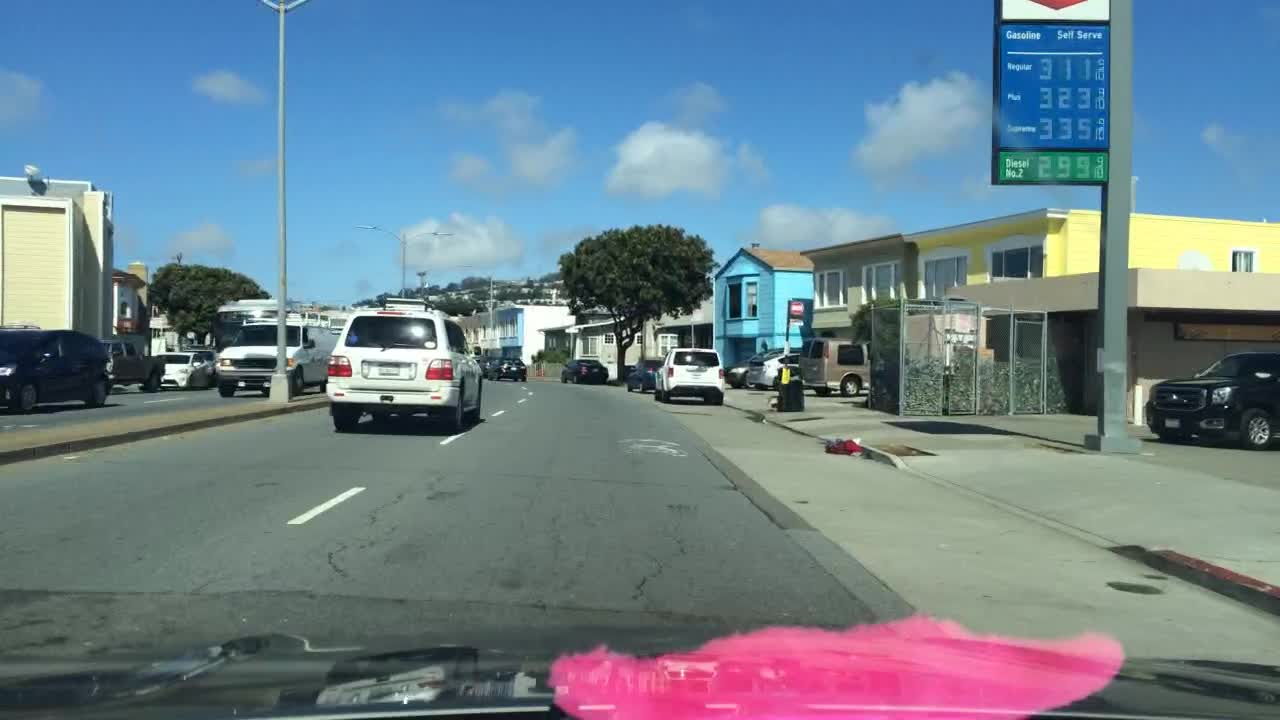bus: (215, 298, 320, 372)
car: (325, 307, 481, 433), (1144, 352, 1278, 448), (0, 327, 109, 410), (653, 347, 723, 408), (800, 338, 869, 395), (724, 348, 796, 389), (157, 351, 207, 388), (751, 354, 798, 389), (558, 357, 609, 384), (623, 358, 663, 391), (490, 357, 524, 379), (480, 355, 492, 373)
traffic sign: (790, 302, 805, 316)
truck: (211, 317, 334, 396), (100, 338, 165, 391)
